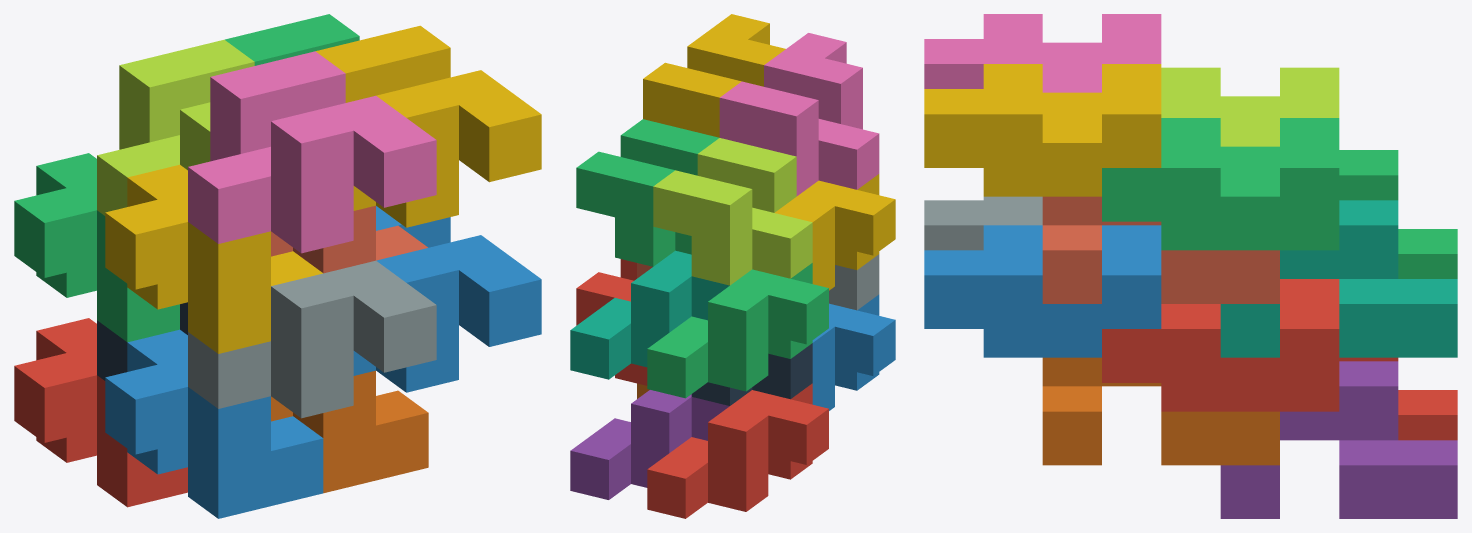
File: tiling.obj
3 renders of one model, left to right at view 1: azimuth 30°, elevation 25°; view 2: azimuth 150°, elevation 25°; view 3: azimuth 270°, elevation 25°, orthographic. The views are drawn at different scales.
Visible parts, largest first — view 1: copy_2_domain_4, copy_2_domain_2, copy_1_domain_2, copy_2_domain_8, copy_1_domain_4, copy_2_domain_6, copy_1_domain_1, copy_1_domain_3, copy_2_domain_3, copy_1_domain_6, copy_1_domain_8, copy_2_domain_7 (+1 smaller); view 2: copy_2_domain_3, copy_2_domain_4, copy_1_domain_1, copy_1_domain_3, copy_2_domain_7, copy_1_domain_7, copy_2_domain_8, copy_1_domain_5, copy_1_domain_4, copy_1_domain_2, copy_2_domain_1, copy_2_domain_5 (+1 smaller); view 3: copy_2_domain_7, copy_2_domain_8, copy_2_domain_6, copy_2_domain_5, copy_1_domain_5, copy_1_domain_7, copy_1_domain_6, copy_1_domain_8, copy_2_domain_4, copy_2_domain_3, copy_1_domain_3, copy_2_domain_2 (+1 smaller).
Part boxes in pixels (box(x1,y1,x2,y2)): copy_2_domain_4: box(188, 51, 436, 253); copy_2_domain_2: box(188, 260, 436, 418); copy_1_domain_2: box(105, 329, 323, 518); copy_2_domain_8: box(315, 25, 541, 227); copy_1_domain_4: box(105, 164, 322, 353); copy_2_domain_6: box(353, 206, 541, 392); copy_1_domain_1: box(14, 318, 187, 507); copy_1_domain_3: box(14, 153, 179, 342); copy_2_domain_3: box(97, 39, 254, 215); copy_1_domain_6: box(271, 370, 428, 493); copy_1_domain_8: box(271, 205, 427, 273); copy_2_domain_7: box(225, 14, 359, 65); copy_2_domain_3: box(653, 138, 812, 285); copy_2_domain_4: box(719, 33, 879, 196); copy_1_domain_1: box(647, 383, 828, 518); copy_1_domain_3: box(647, 263, 828, 398); copy_2_domain_7: box(576, 119, 719, 266); copy_1_domain_7: box(570, 250, 729, 379); copy_2_domain_8: box(643, 14, 785, 137); copy_1_domain_5: box(570, 390, 729, 499); copy_1_domain_4: box(775, 174, 895, 290); copy_1_domain_2: box(812, 294, 895, 410); copy_2_domain_1: box(691, 343, 812, 405); copy_2_domain_5: box(576, 259, 647, 385); copy_2_domain_7: box(1102, 118, 1339, 250); copy_2_domain_8: box(924, 64, 1161, 196); copy_2_domain_6: box(924, 225, 1161, 357); copy_2_domain_5: box(1102, 279, 1339, 411); copy_1_domain_5: box(1220, 361, 1457, 518); copy_1_domain_7: box(1220, 200, 1457, 357); copy_1_domain_6: box(1042, 357, 1279, 465); copy_1_domain_8: box(1042, 196, 1279, 303); copy_2_domain_4: box(924, 14, 1161, 92); copy_2_domain_3: box(1161, 67, 1339, 146); copy_1_domain_3: box(1339, 150, 1457, 278); copy_2_domain_2: box(924, 196, 1042, 250).
Size of the model in its own units: 6 by 8 by 9.
